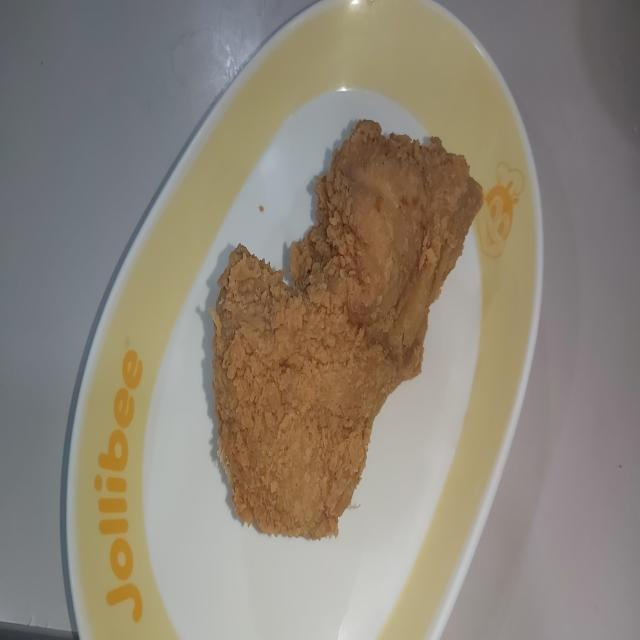Chicken -Fried Chicken-: (219, 86, 463, 568)
